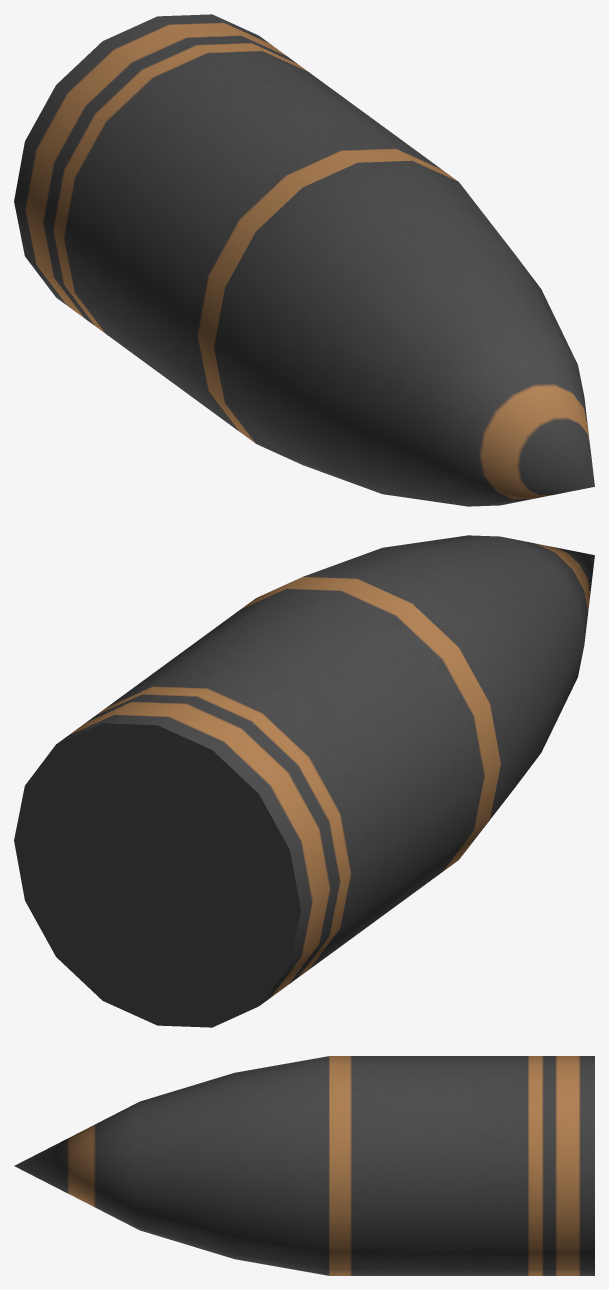
Rendered from Nuke Cannon Projectile.fbx.
3 views of the same model, one above another, from view 1: azimuth 30°, elevation 25°; view 2: azimuth 150°, elevation 25°; view 3: azimuth 270°, elevation 25° (orthographic). The views are drawn at different scales.
Visible parts, largest first — view 1: pCylinder1; view 2: pCylinder1; view 3: pCylinder1.
Boxes of the visible parts, x1,y1,x2,y2 form: pCylinder1: (14, 14, 594, 506); pCylinder1: (14, 535, 594, 1027); pCylinder1: (14, 1056, 594, 1275).
Size of the model in its own units: 13.34 by 13.34 by 35.22.
1 material, 1 textured.
